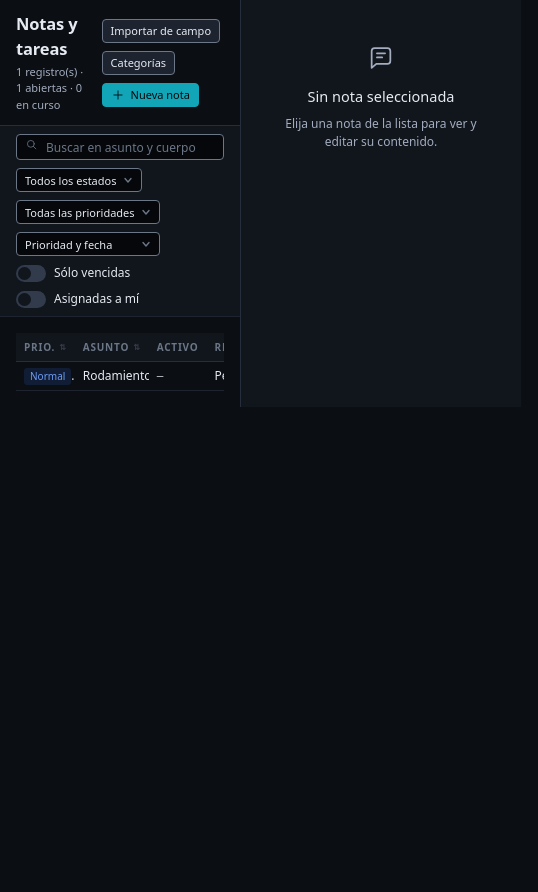
Test case: responsable de una nota › conserva al responsable inactivo de una nota ya asignada
Click the text "Rodamiento con ruido" at (146, 376), box [83, 367, 208, 385]
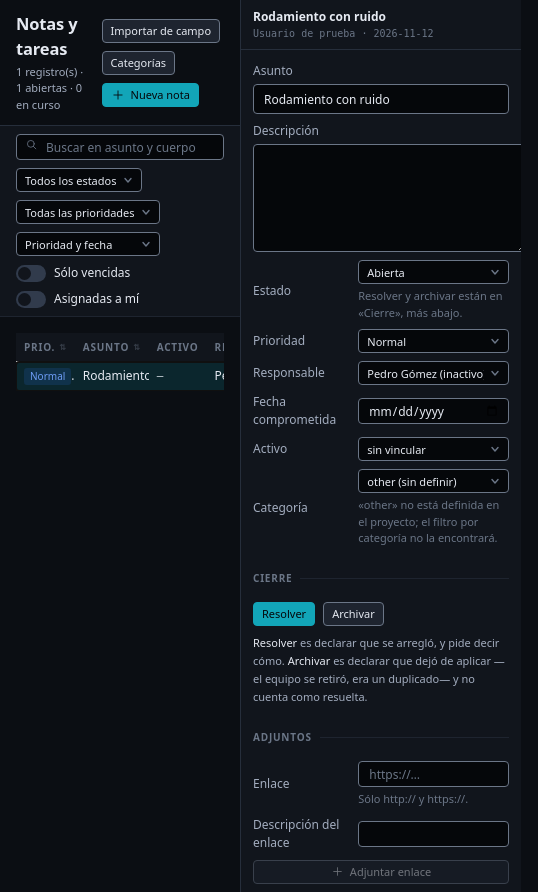
Result: the dropdown labelled "Responsable" shows "Pedro Gómez (inactivo)" at [358, 361, 509, 385]
